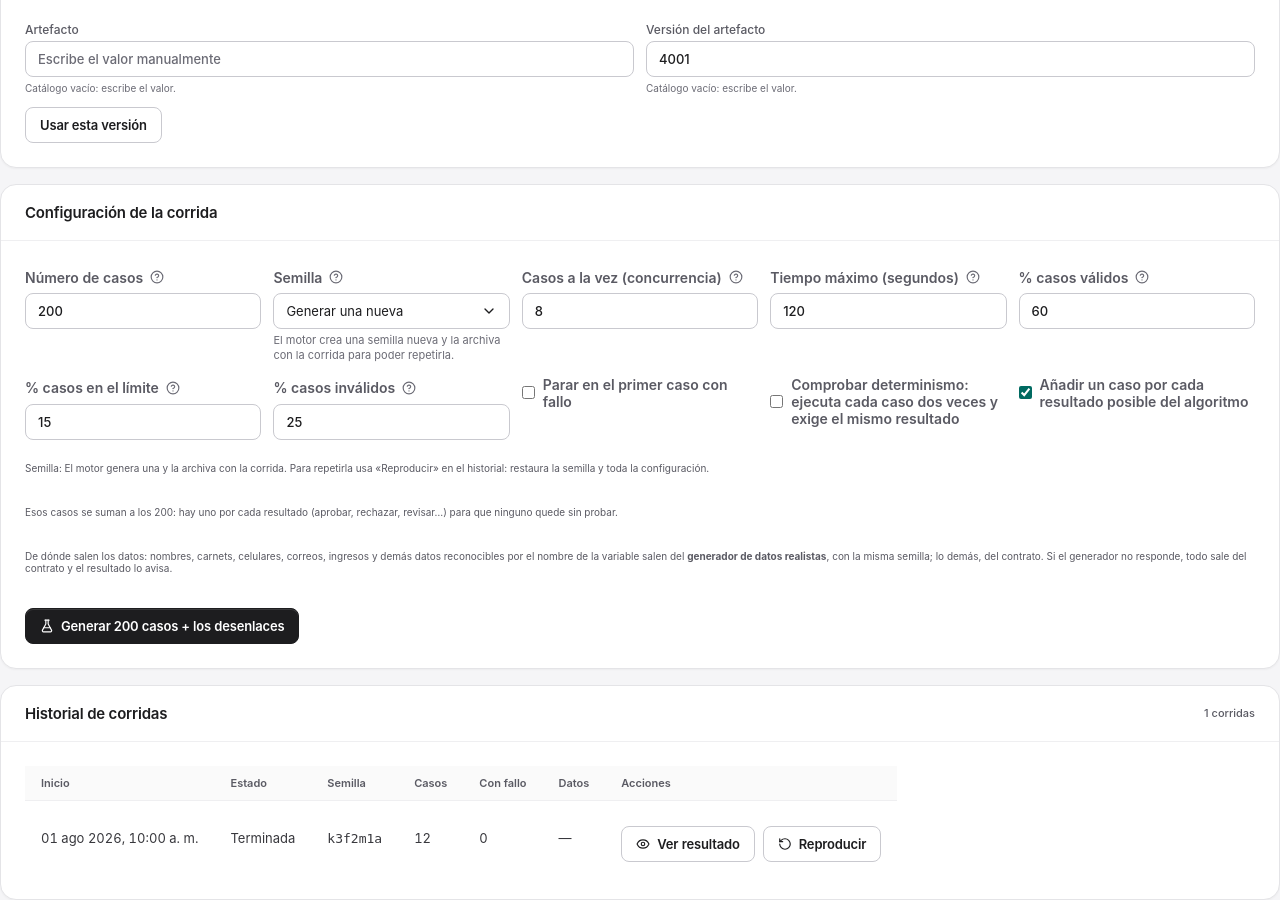
Test: QaLabPage › una corrida interrumpida dice por qué, en español
This screenshot has width=1280, height=900.
(page scrolled)
Click the button "Ver resultado" at (688, 844), box [621,826,755,862]
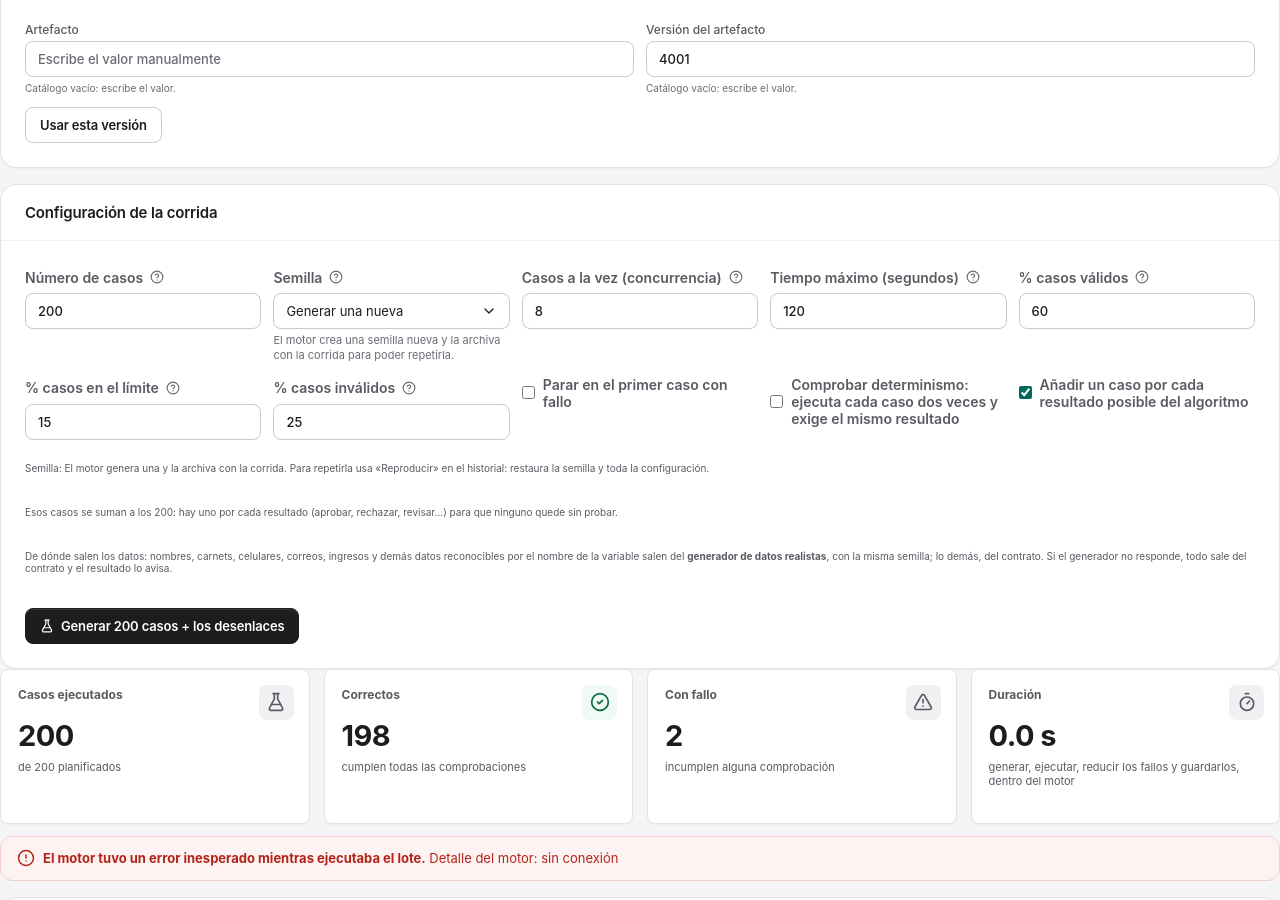
Expected: the text "error inesperado mientras ejecutaba el lote" is shown, [43,850,426,866]
Expected: the text "Detalle del motor: sin conexión" is shown, [429,850,618,866]
